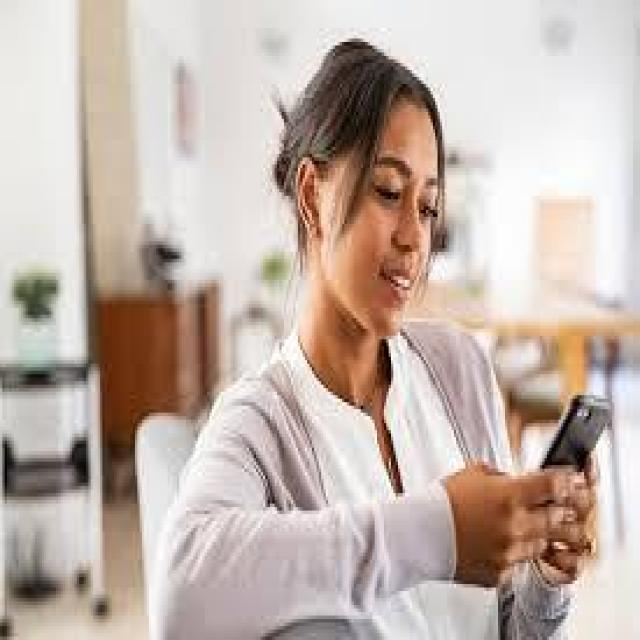Smartphone: (527, 389, 619, 494)
